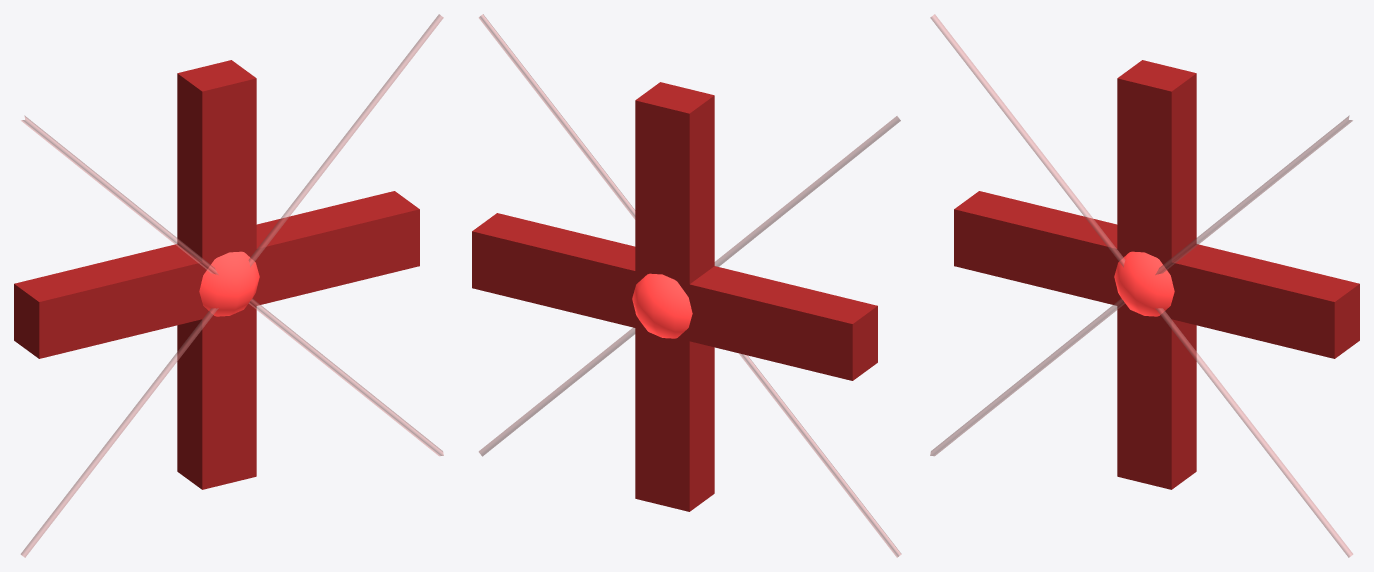
File: cil-plus.glb
3 views of the same model, side by side, from view 1: azimuth 30°, elevation 25°; view 2: azimuth 150°, elevation 25°; view 3: azimuth 330°, elevation 25° (orthographic).
Bounding box in the file's own units: 0.7773 × 0.7773 × 0.14.
